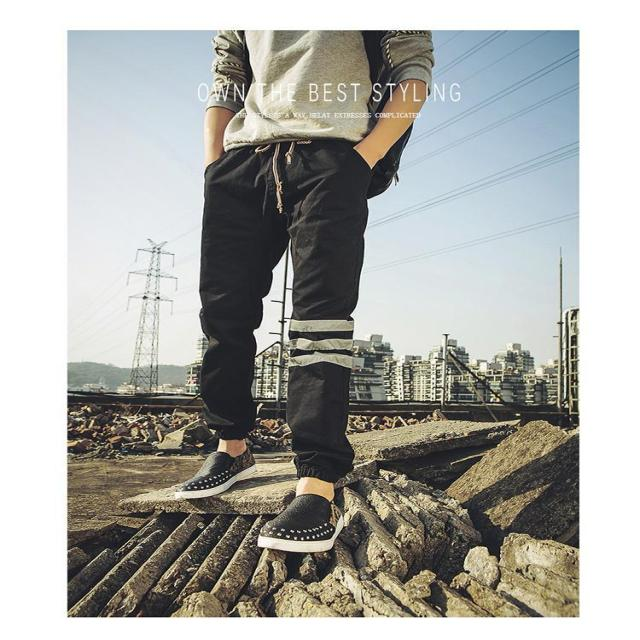long sleeve top: (225, 31, 391, 152)
trousers: (200, 134, 374, 483)
